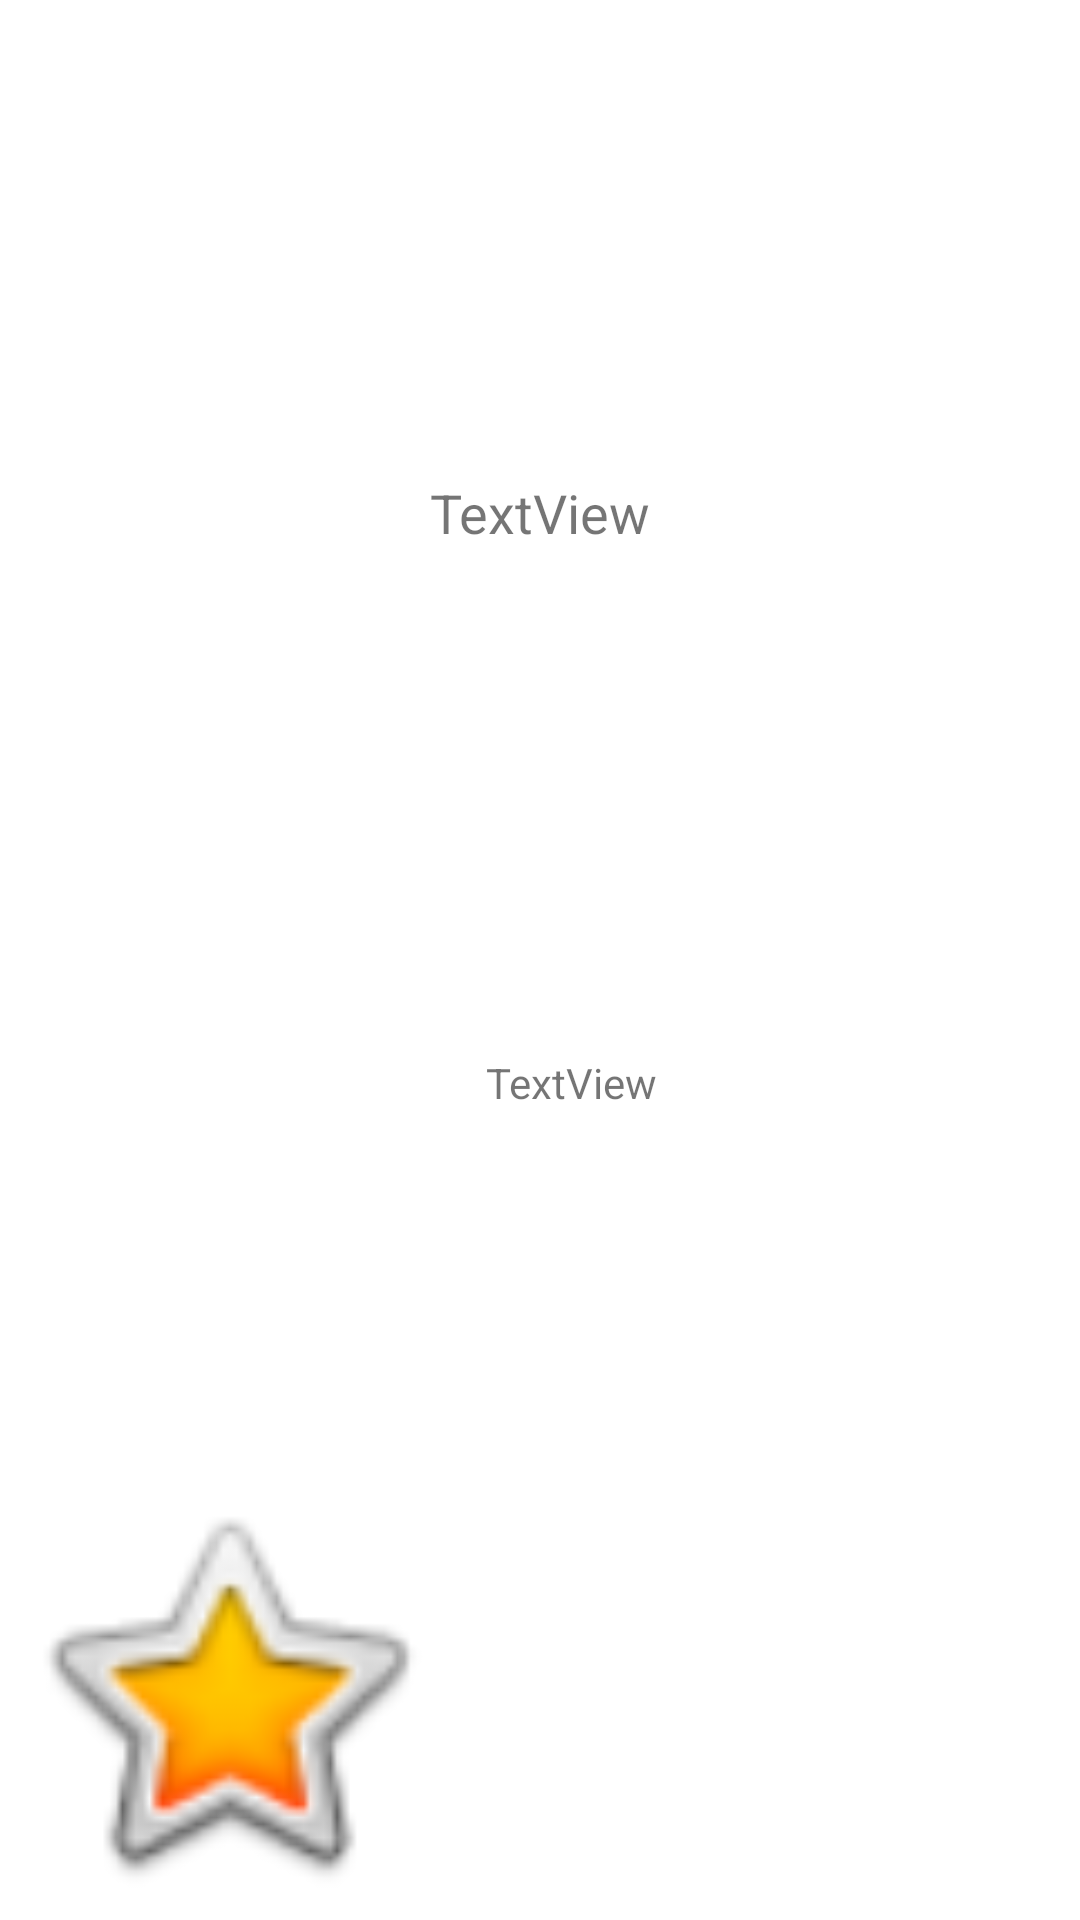

Named icons in this screenshot (1080px×1920px) and their centers, (x,y):
star on: (230,1697)
